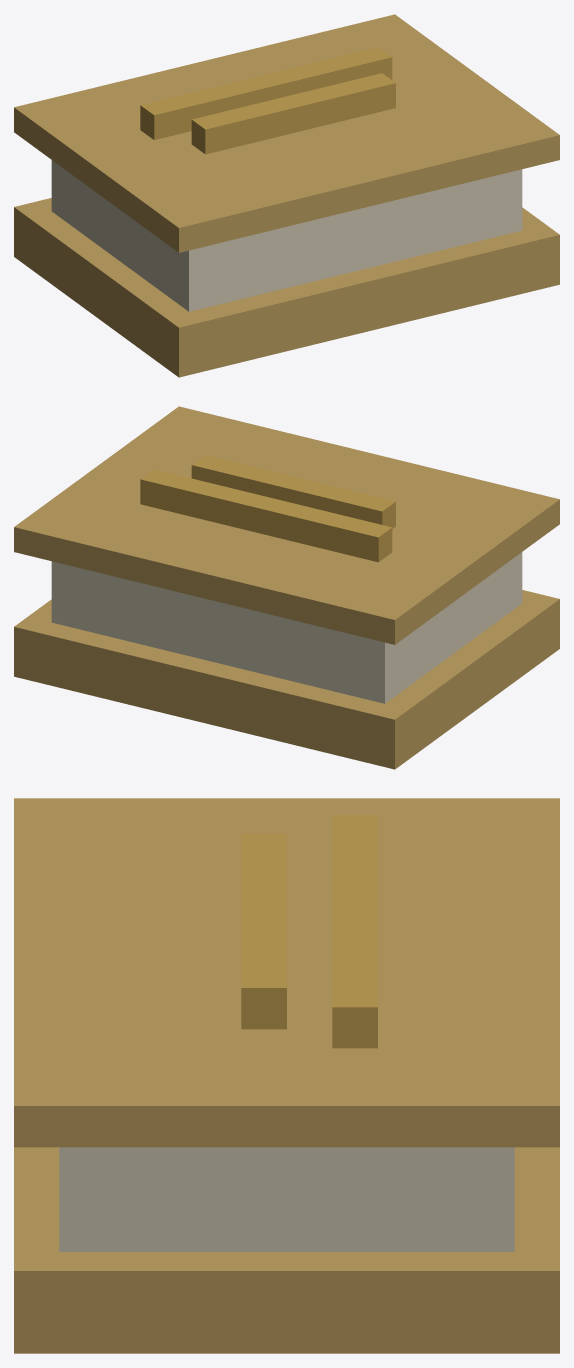
Rendered from education-03.glb.
The picture shows the model from 3 angles, top to bottom: view 1: azimuth 30°, elevation 25°; view 2: azimuth 150°, elevation 25°; view 3: azimuth 270°, elevation 25°; orthographic projection. The views are drawn at different scales.
Parts seen in each view (by area): view 1: Open textbook; view 2: Open textbook; view 3: Open textbook.
Boxes of the visible parts, x1,y1,x2,y2 form: Open textbook: [14, 14, 559, 377]; Open textbook: [14, 406, 559, 769]; Open textbook: [14, 798, 559, 1353].
Size of the model in its own units: 1.28 by 0.56 by 0.96.
